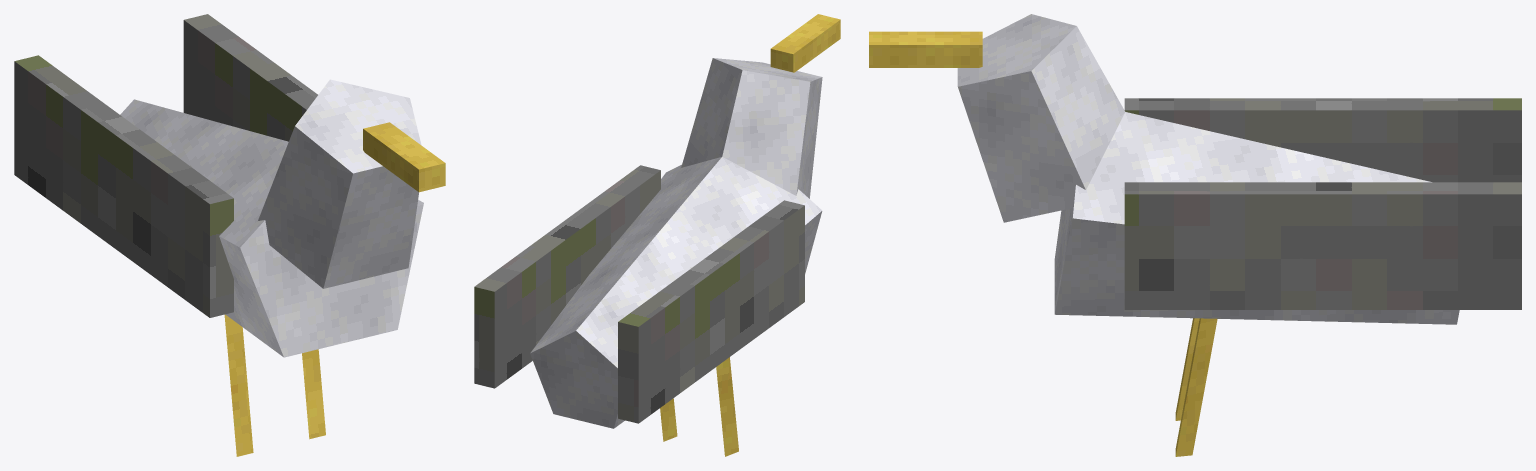
Rendered from gaviota_posada.obj.
3 views of the same model, side by side, from view 1: azimuth 30°, elevation 25°; view 2: azimuth 150°, elevation 25°; view 3: azimuth 270°, elevation 25° (orthographic). The views are drawn at different scales.
Visible parts, largest first — view 1: gaviota_posada; view 2: gaviota_posada; view 3: gaviota_posada.
Part boxes in pixels (bbox=[...]): gaviota_posada: bbox=[14, 14, 445, 456]; gaviota_posada: bbox=[474, 14, 840, 456]; gaviota_posada: bbox=[869, 14, 1521, 456].
Size of the model in its own units: 0.16 by 0.3199 by 0.46.
Materials: 3 (3 with a texture image).
